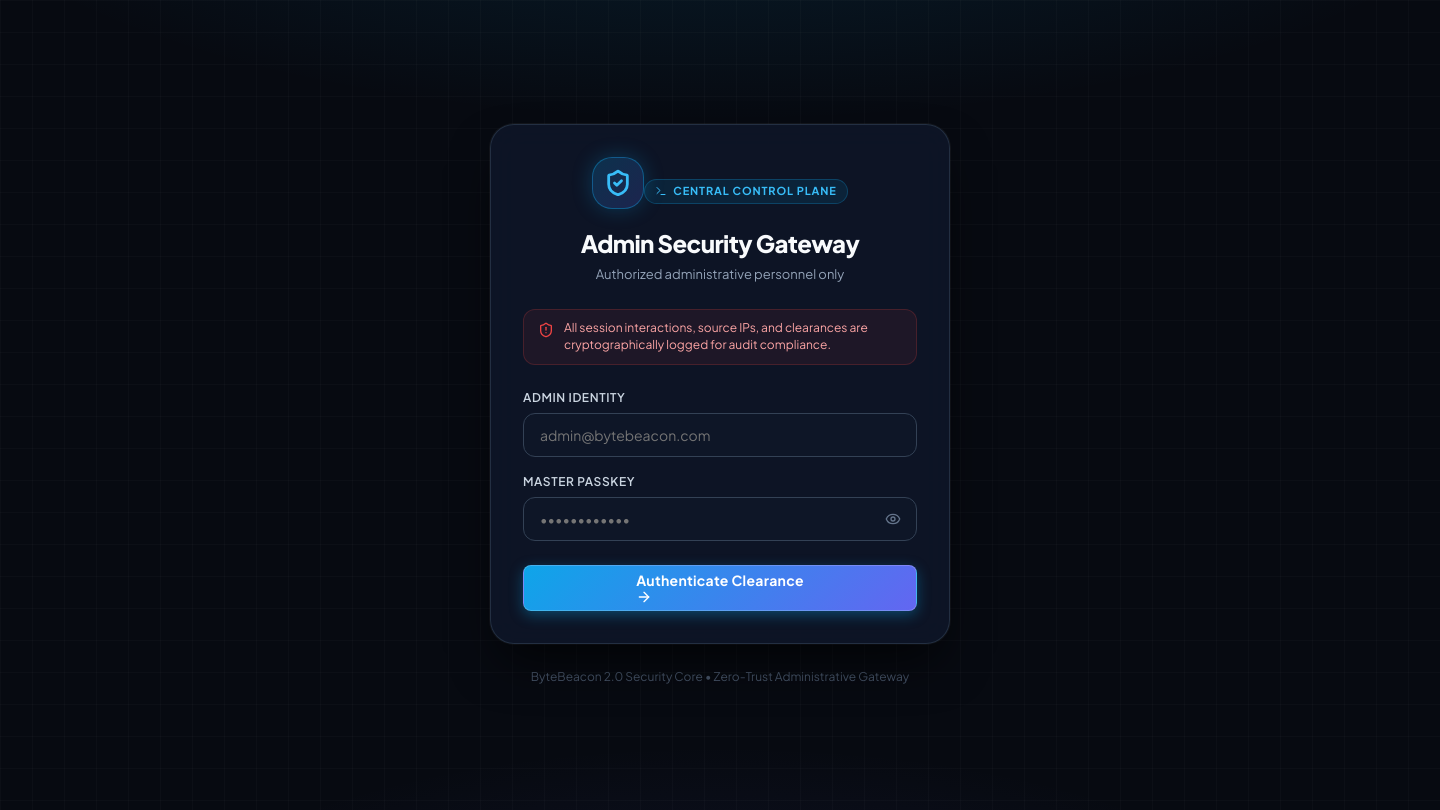
Test: Admin Security Hardening & Gatekeeper Protection Suite › 2. Dedicated AdminSignInPage Security Gateway › 2.4 displays authentication denial error on invalid credentials
Type "intruder@unknown.com" into the field labelled "Admin Identity" at (720, 434), box [523,412,917,456]
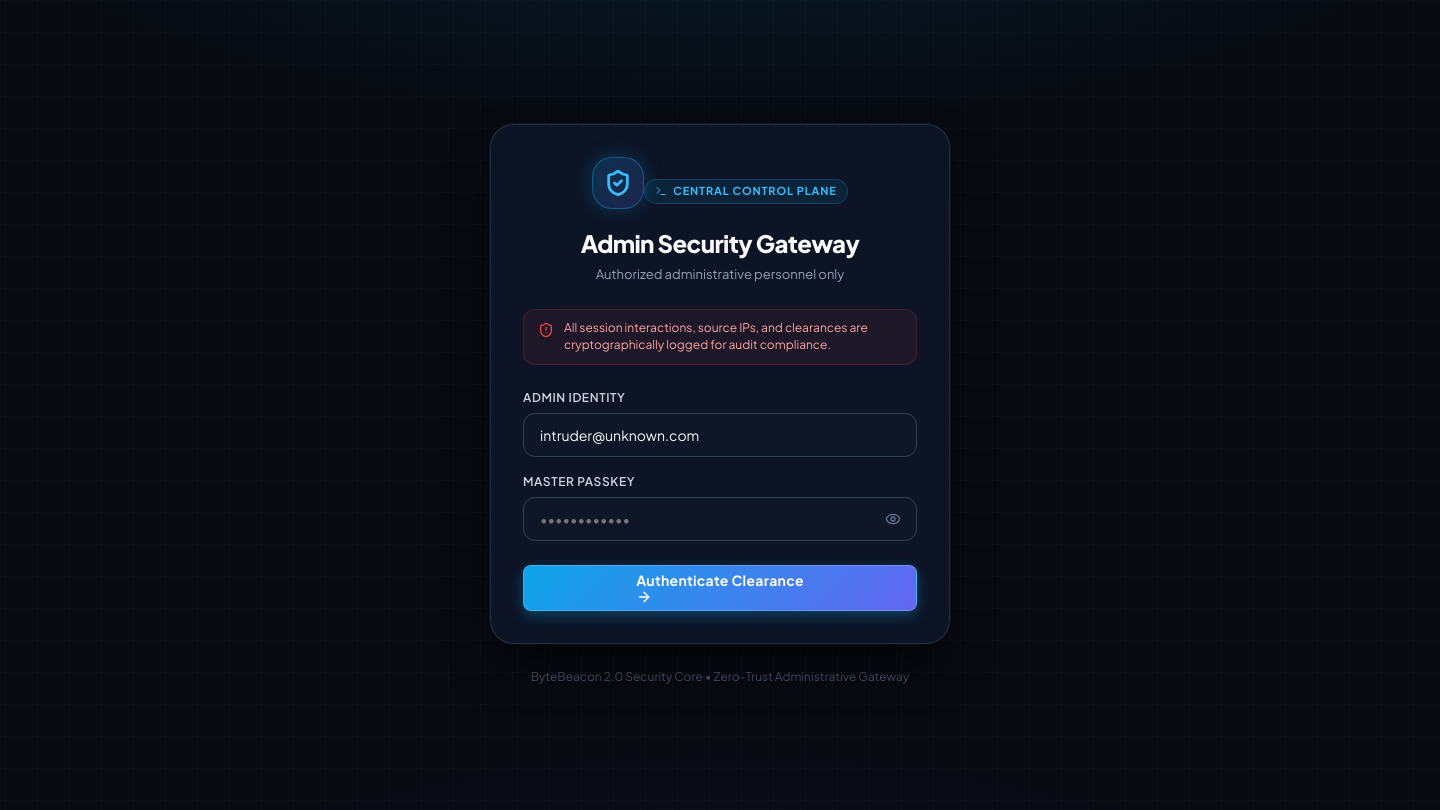
Type "WrongPassword" into the password field labelled "Master Passkey" at (720, 518), box [523,496,917,540]
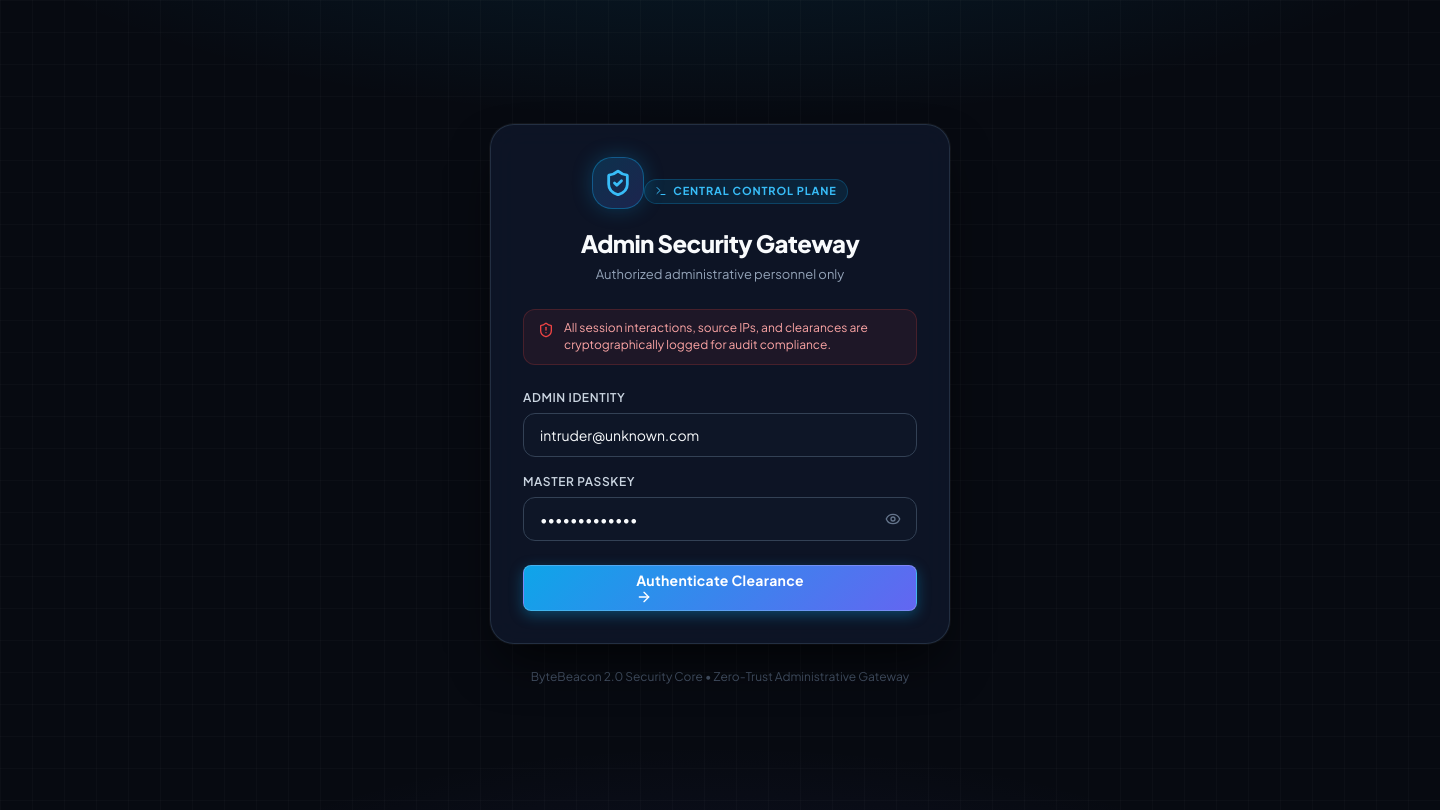
Click the button "Authenticate Clearance" at (720, 588), box [523,564,917,610]
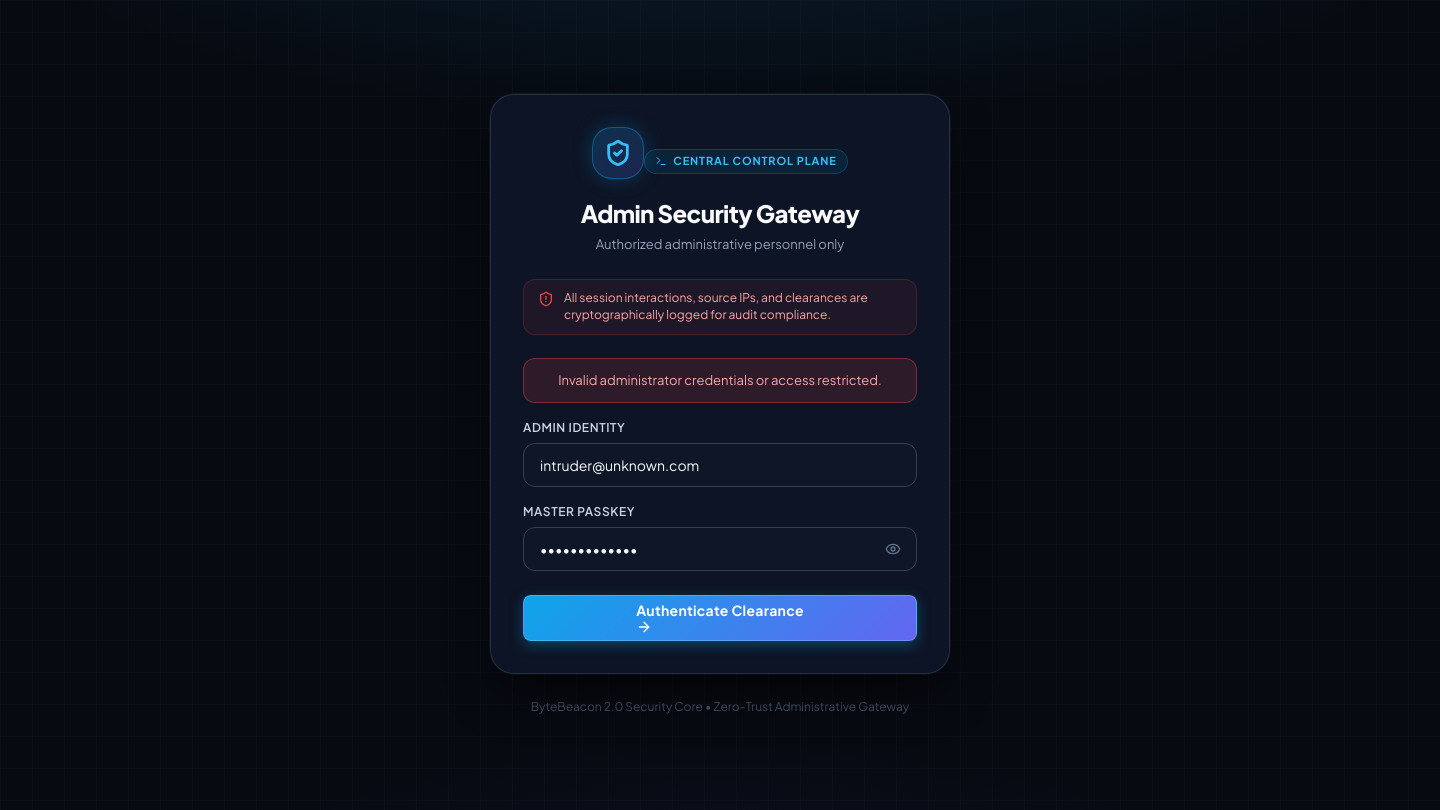
Result: the text "Invalid administrator credentials or access restricted." is shown at [523,358,917,403]
